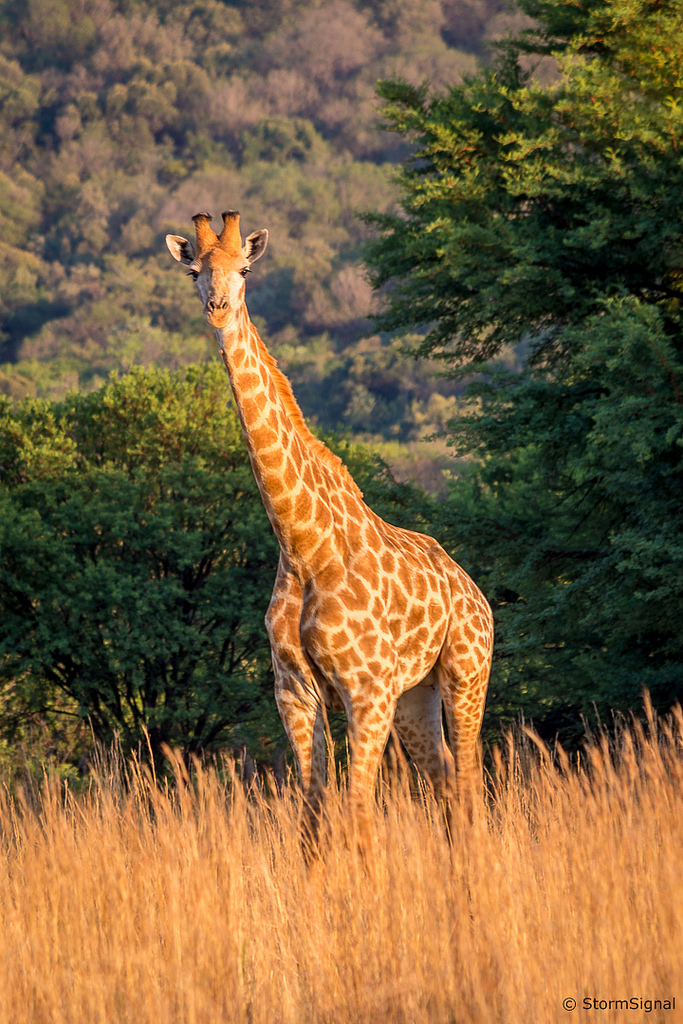giraffe: (141, 182, 568, 919)
